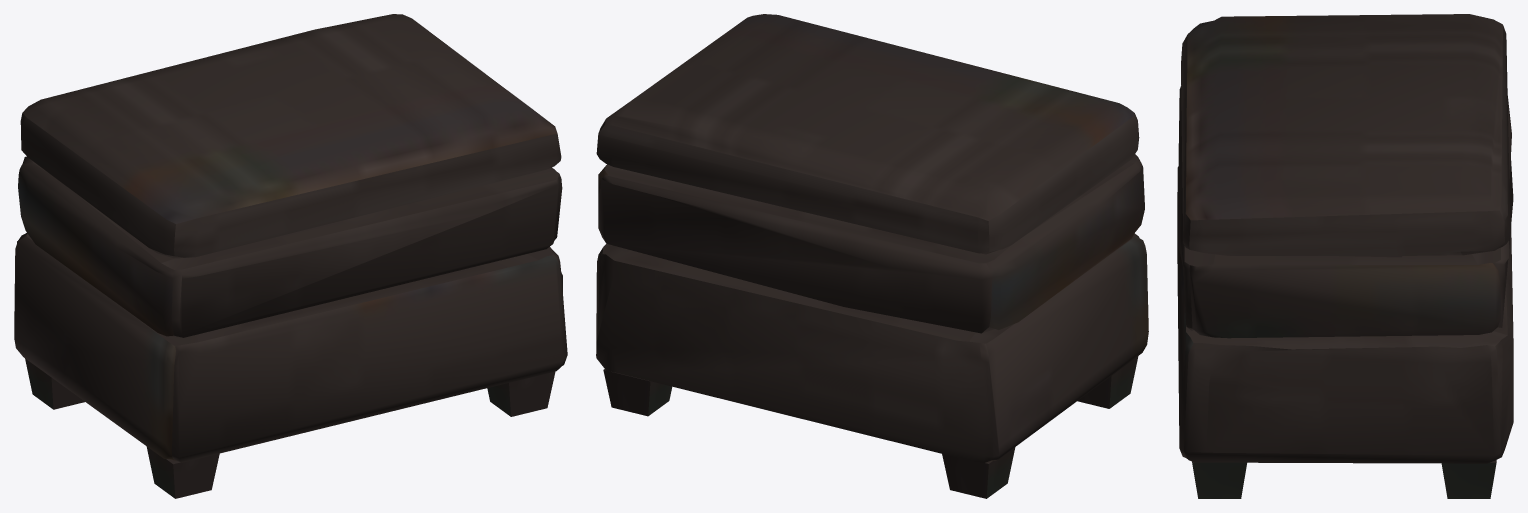
3 renders of one model, left to right at view 1: azimuth 30°, elevation 25°; view 2: azimuth 150°, elevation 25°; view 3: azimuth 270°, elevation 25°, orthographic. The views are drawn at different scales.
Parts seen in each view (by area): view 1: Ottoman_01; view 2: Ottoman_01; view 3: Ottoman_01.
Boxes of the visible parts, <box> form: Ottoman_01: <box>14,14,567,498</box>; Ottoman_01: <box>596,14,1148,498</box>; Ottoman_01: <box>1177,14,1513,498</box>.
Bounding box in the file's own units: 0.8672 × 0.6008 × 0.5938.
1 material, 1 textured.
